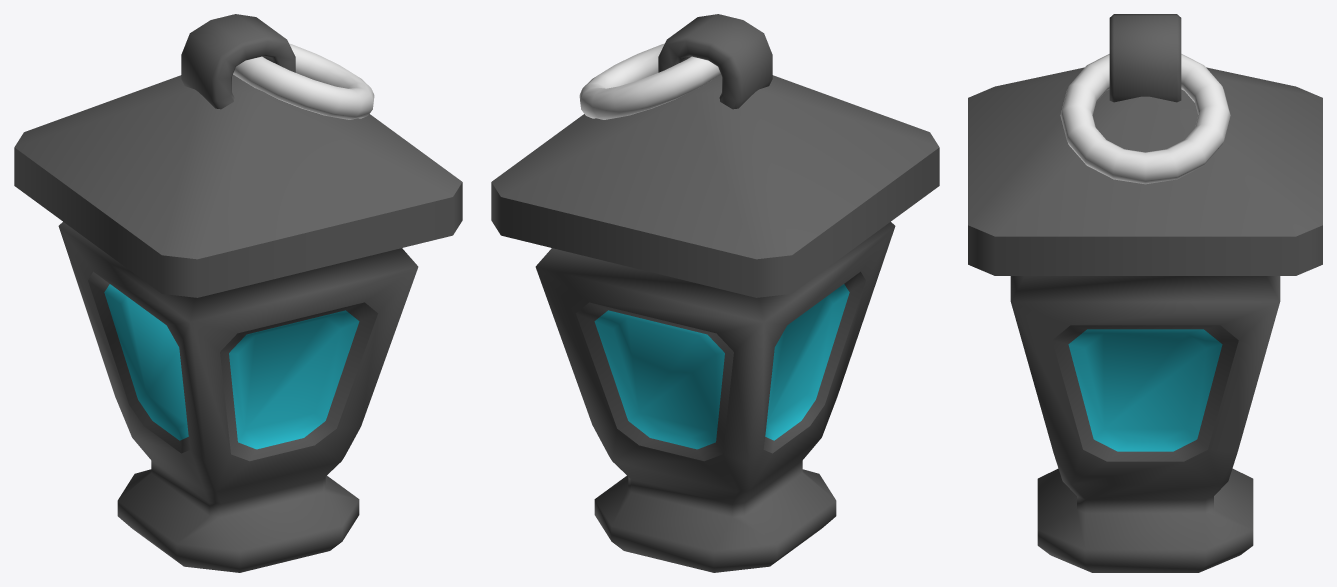
File: Lantern.fbx
3 renders of one model, left to right at view 1: azimuth 30°, elevation 25°; view 2: azimuth 150°, elevation 25°; view 3: azimuth 270°, elevation 25°, orthographic. The views are drawn at different scales.
Parts seen in each view (by area): view 1: Cube; view 2: Cube; view 3: Cube.
Boxes of the visible parts, bbox=[...] form: Cube: bbox=[14, 14, 462, 572]; Cube: bbox=[491, 14, 939, 572]; Cube: bbox=[968, 14, 1322, 572].
Bounding box in the file's own units: 329 × 523 × 329.
